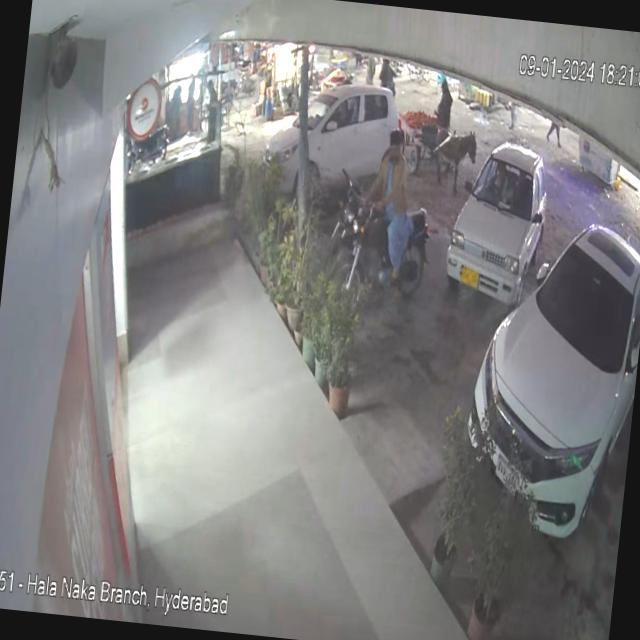Car: (453, 168, 640, 555), (442, 115, 558, 332), (241, 60, 413, 194)
Motorcycle: (338, 203, 446, 312)
